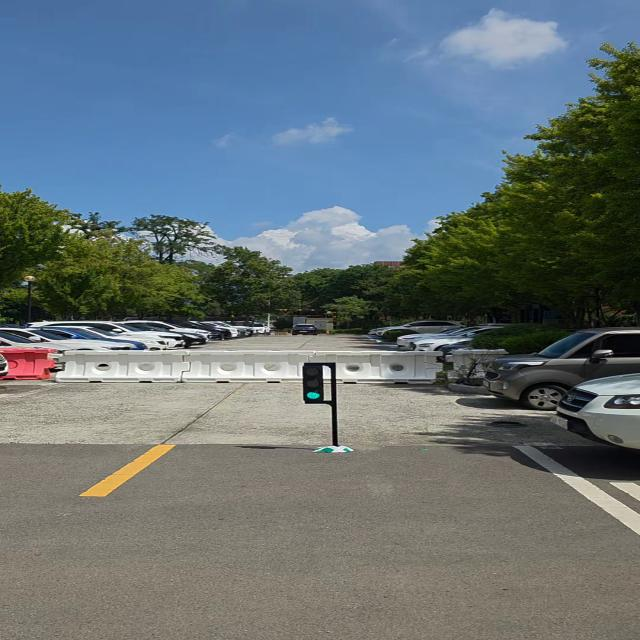green: (299, 363, 326, 404)
